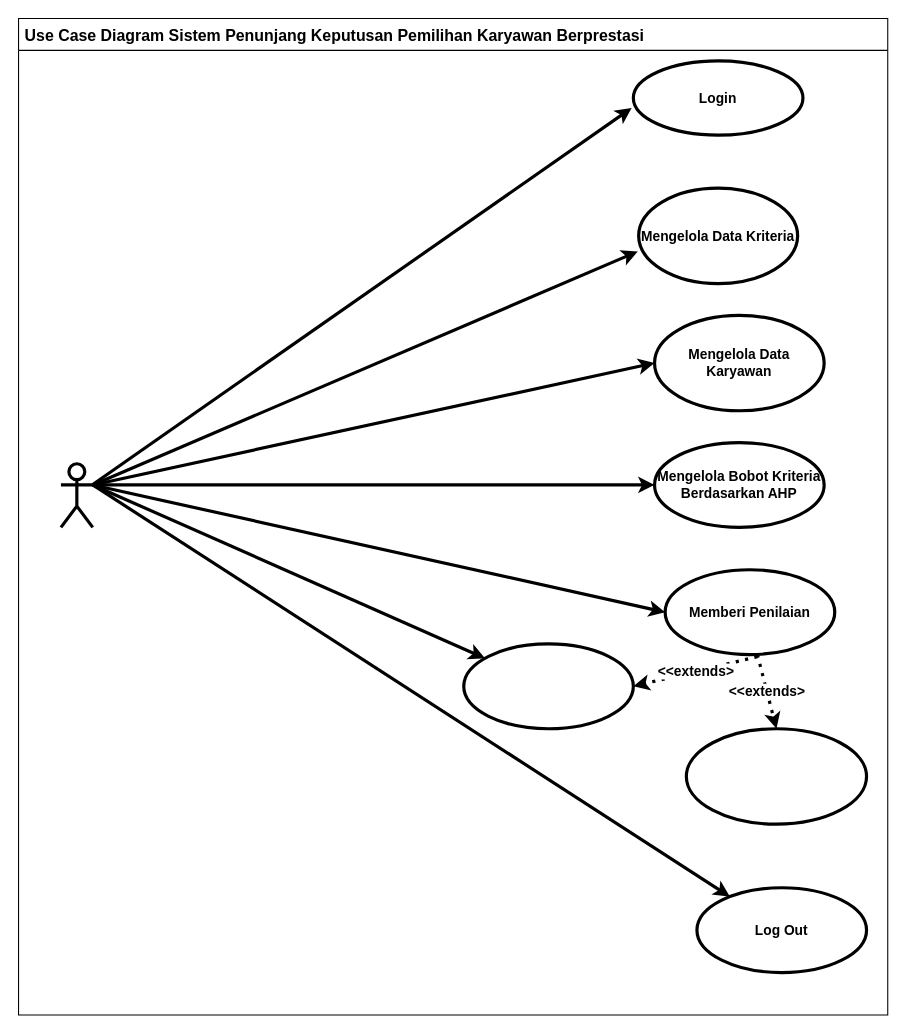
Some shapes in this 906 by 1034 pixel diagram are drawn without their labels. Each missing label, with the box of its shape:
Admin: (59, 462, 94, 528)
Cetak Penilaian: (684, 727, 868, 825)
Mengelola Data Penilaian: (462, 642, 634, 730)
